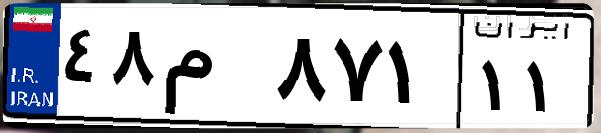1: (385, 28, 445, 110), (475, 38, 525, 113), (525, 38, 570, 115)
4: (57, 26, 110, 100)
7: (330, 28, 385, 110)
8: (270, 28, 330, 110), (110, 28, 158, 98)
م: (158, 20, 270, 120)
